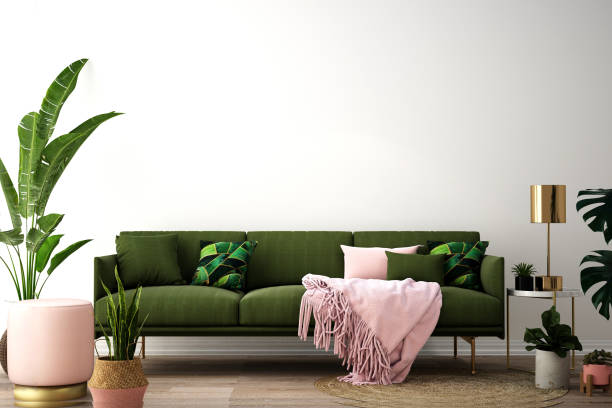large plant: (0, 57, 116, 372), (88, 273, 160, 408)
side table: (507, 284, 585, 369)
small plant: (522, 305, 583, 390), (582, 346, 611, 395), (512, 258, 536, 289)
sofa: (90, 226, 508, 376)
table lamp: (528, 182, 570, 290)
